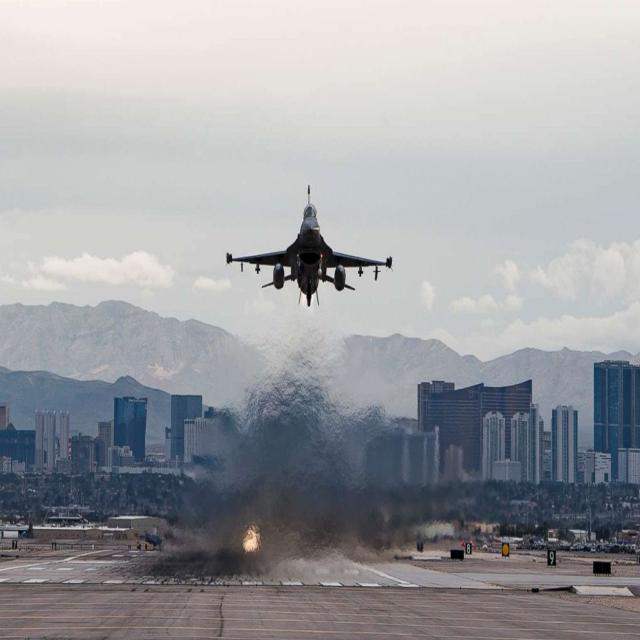MIL_Plane: (224, 184, 393, 307)
